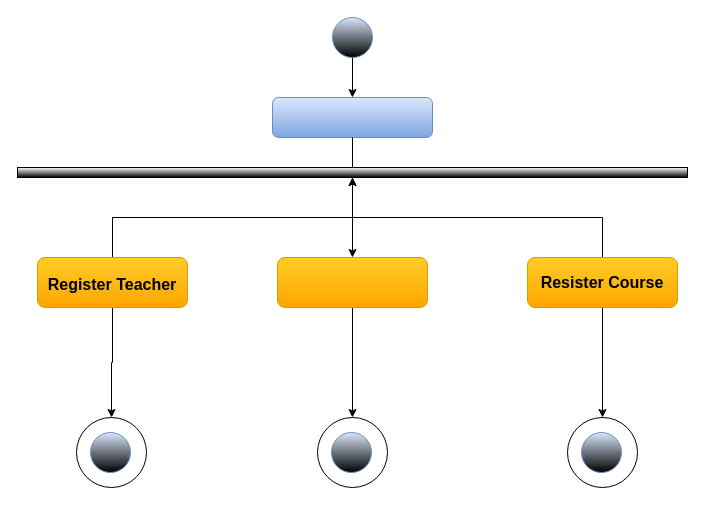
Image size: 705x505. Some labels were removed from this diagram. Each missing label, with the centre of its shape:
"Assign Teacher & course" goes at (x=352, y=282).
"Login" goes at (x=352, y=117).
